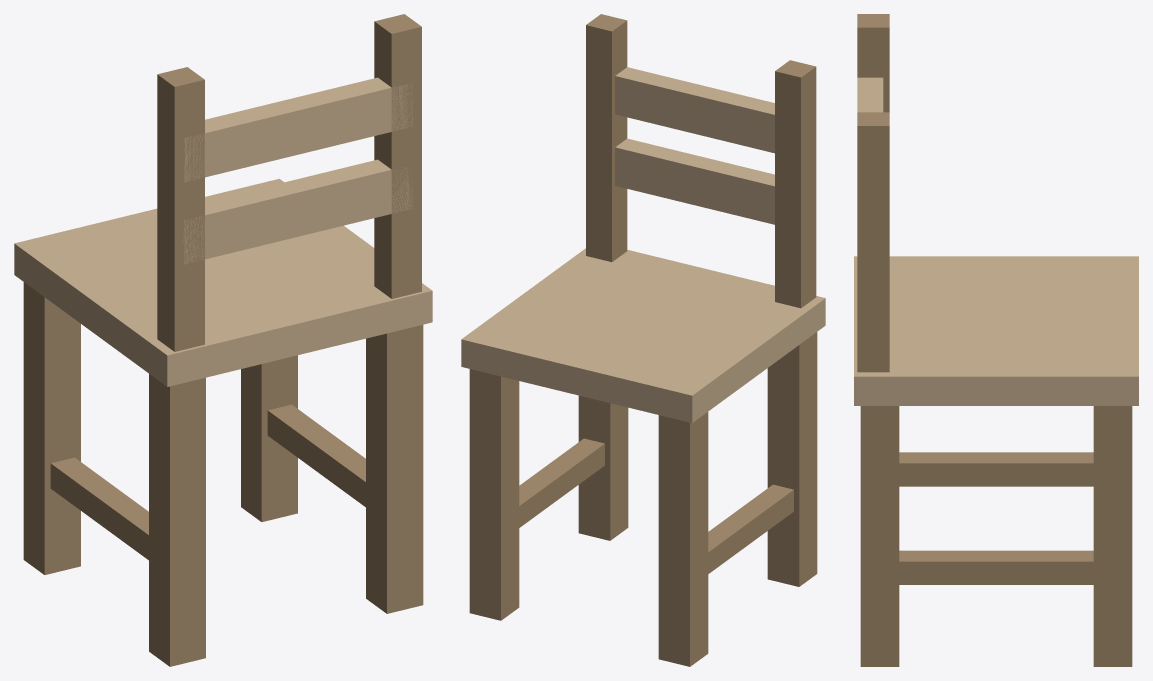
The model's file is 18-Casas_silla_madera.glb.
3 renders of one model, left to right at view 1: azimuth 30°, elevation 25°; view 2: azimuth 150°, elevation 25°; view 3: azimuth 270°, elevation 25°, orthographic. The views are drawn at different scales.
Parts seen in each view (by area): view 1: SM_Silla_Asiento, SM_Silla_Pata_CI, SM_Silla_Pata_PI, SM_Silla_Pata_PD, SM_Silla_Montante_D, SM_Silla_Liston_Alto, SM_Silla_Liston_Bajo, SM_Silla_Montante_I, SM_Silla_Pata_CD, SM_Silla_Travesano_D, SM_Silla_Travesano_I; view 2: SM_Silla_Asiento, SM_Silla_Pata_PD, SM_Silla_Pata_CD, SM_Silla_Pata_PI, SM_Silla_Montante_D, SM_Silla_Montante_I, SM_Silla_Liston_Alto, SM_Silla_Liston_Bajo, SM_Silla_Pata_CI, SM_Silla_Travesano_I, SM_Silla_Travesano_D; view 3: SM_Silla_Asiento, SM_Silla_Pata_CI, SM_Silla_Pata_CD, SM_Silla_Montante_I, SM_Silla_Travesano_I, SM_Silla_Travesano_D, SM_Silla_Montante_D, SM_Silla_Liston_Alto.
Part boxes in pixels (x1=…): SM_Silla_Asiento: x1=14, y1=178, x2=432, y2=386; SM_Silla_Pata_CI: x1=366, y1=325, x2=423, y2=613; SM_Silla_Pata_PI: x1=149, y1=374, x2=205, y2=666; SM_Silla_Pata_PD: x1=23, y1=282, x2=80, y2=574; SM_Silla_Montante_D: x1=157, y1=67, x2=204, y2=351; SM_Silla_Liston_Alto: x1=183, y1=77, x2=412, y2=181; SM_Silla_Liston_Bajo: x1=183, y1=159, x2=412, y2=264; SM_Silla_Montante_I: x1=374, y1=14, x2=421, y2=298; SM_Silla_Pata_CD: x1=241, y1=355, x2=297, y2=521; SM_Silla_Travesano_D: x1=50, y1=457, x2=148, y2=560; SM_Silla_Travesano_I: x1=267, y1=404, x2=365, y2=507; SM_Silla_Asiento: x1=461, y1=248, x2=825, y2=422; SM_Silla_Pata_PD: x1=658, y1=412, x2=708, y2=666; SM_Silla_Pata_CD: x1=469, y1=369, x2=519, y2=620; SM_Silla_Pata_PI: x1=767, y1=332, x2=817, y2=586; SM_Silla_Montante_D: x1=775, y1=60, x2=816, y2=308; SM_Silla_Montante_I: x1=586, y1=14, x2=627, y2=261; SM_Silla_Liston_Alto: x1=615, y1=67, x2=774, y2=153; SM_Silla_Liston_Bajo: x1=615, y1=138, x2=774, y2=224; SM_Silla_Pata_CI: x1=578, y1=395, x2=628, y2=540; SM_Silla_Travesano_I: x1=519, y1=438, x2=604, y2=527; SM_Silla_Travesano_D: x1=708, y1=484, x2=793, y2=573; SM_Silla_Asiento: x1=854, y1=256, x2=1138, y2=405; SM_Silla_Pata_CI: x1=860, y1=406, x2=899, y2=666; SM_Silla_Pata_CD: x1=1093, y1=406, x2=1132, y2=666; SM_Silla_Montante_I: x1=857, y1=112, x2=889, y2=372; SM_Silla_Travesano_I: x1=899, y1=550, x2=1093, y2=584; SM_Silla_Travesano_D: x1=899, y1=452, x2=1093, y2=486; SM_Silla_Montante_D: x1=857, y1=14, x2=889, y2=112; SM_Silla_Liston_Alto: x1=857, y1=77, x2=883, y2=112.
Bounding box in the file's own units: 0.44 × 0.92 × 0.44.
